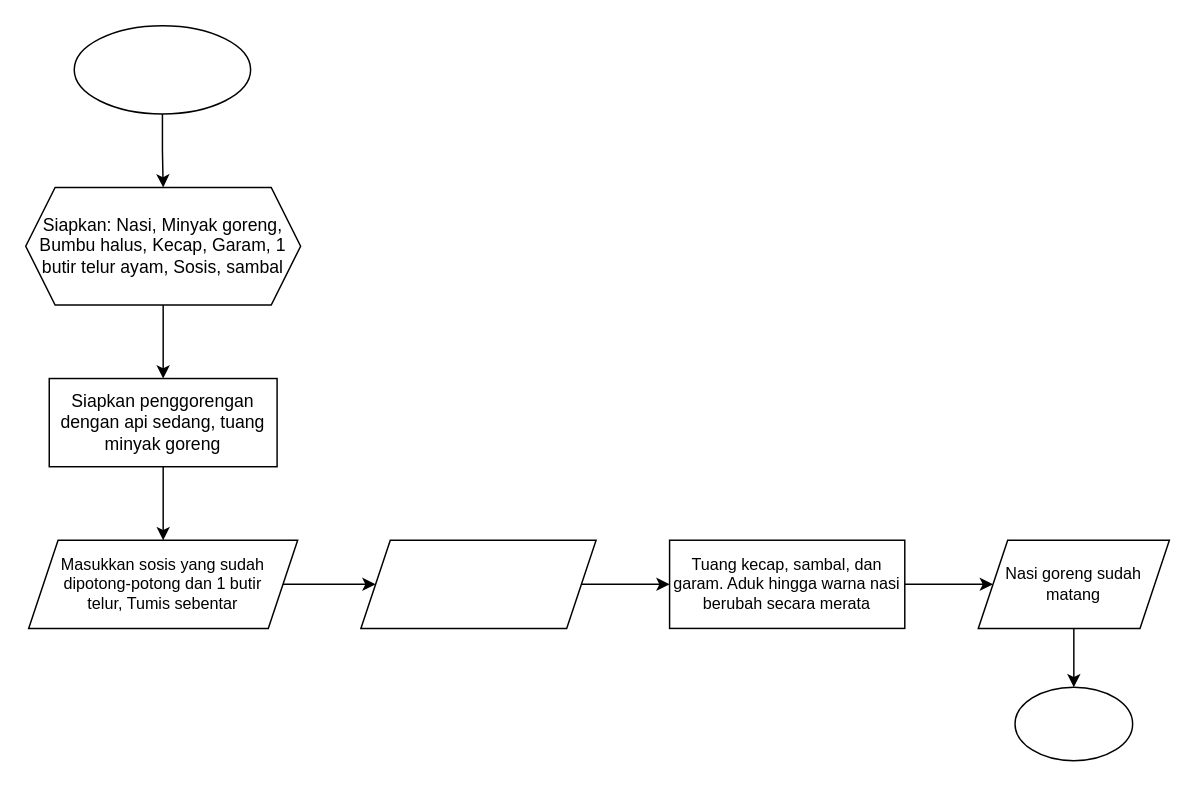
Image size: 1195x786. Some labels were removed from this diagram. Here are the shapes that lost their labels. From the top down, the centre of each, then its label:
At point (162, 69): "MULAI".
At point (477, 583): "Masukkan bumbu halus dan nasi, aduk hingga tercampur rata".
At point (1073, 723): "SELESAI".
